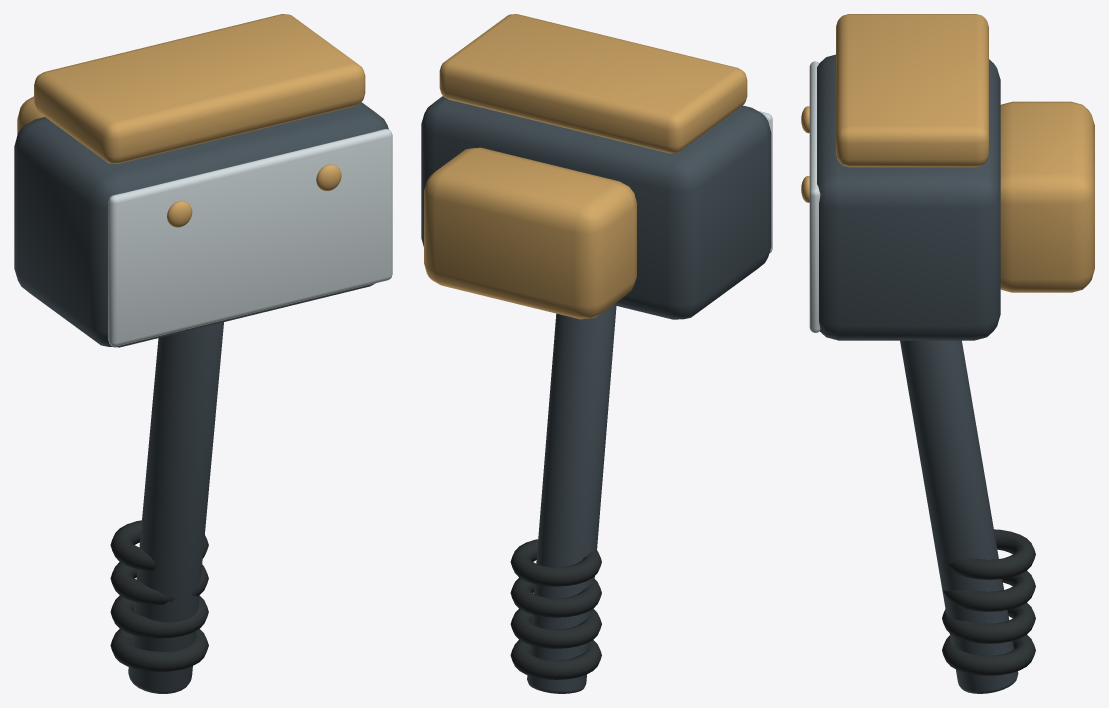
The model's file is piledriver.t4.glb.
3 renders of one model, left to right at view 1: azimuth 30°, elevation 25°; view 2: azimuth 150°, elevation 25°; view 3: azimuth 270°, elevation 25°, orthographic. The views are drawn at different scales.
Visible parts, largest first — view 1: weapon_right__forged_bluelead_steel__protected, weapon_right__honed_steel_edge__protected, weapon_right__worn_warm_brass__protected, weapon_right__charcoal_rubber__protected; view 2: weapon_right__worn_warm_brass__protected, weapon_right__forged_bluelead_steel__protected, weapon_right__charcoal_rubber__protected; view 3: weapon_right__forged_bluelead_steel__protected, weapon_right__worn_warm_brass__protected, weapon_right__charcoal_rubber__protected, weapon_right__honed_steel_edge__protected.
Boxes of the visible parts, x1,y1,x2,y2 form: weapon_right__forged_bluelead_steel__protected: [14, 102, 388, 693]; weapon_right__honed_steel_edge__protected: [108, 129, 392, 346]; weapon_right__worn_warm_brass__protected: [17, 14, 365, 227]; weapon_right__charcoal_rubber__protected: [110, 520, 208, 671]; weapon_right__worn_warm_brass__protected: [424, 14, 747, 319]; weapon_right__forged_bluelead_steel__protected: [421, 96, 771, 693]; weapon_right__charcoal_rubber__protected: [510, 539, 601, 679]; weapon_right__forged_bluelead_steel__protected: [817, 54, 1018, 693]; weapon_right__worn_warm_brass__protected: [801, 14, 1094, 292]; weapon_right__charcoal_rubber__protected: [942, 529, 1035, 675]; weapon_right__honed_steel_edge__protected: [809, 61, 820, 332].
Size of the model in its own units: 0.5936 by 1.22 by 0.5291.
